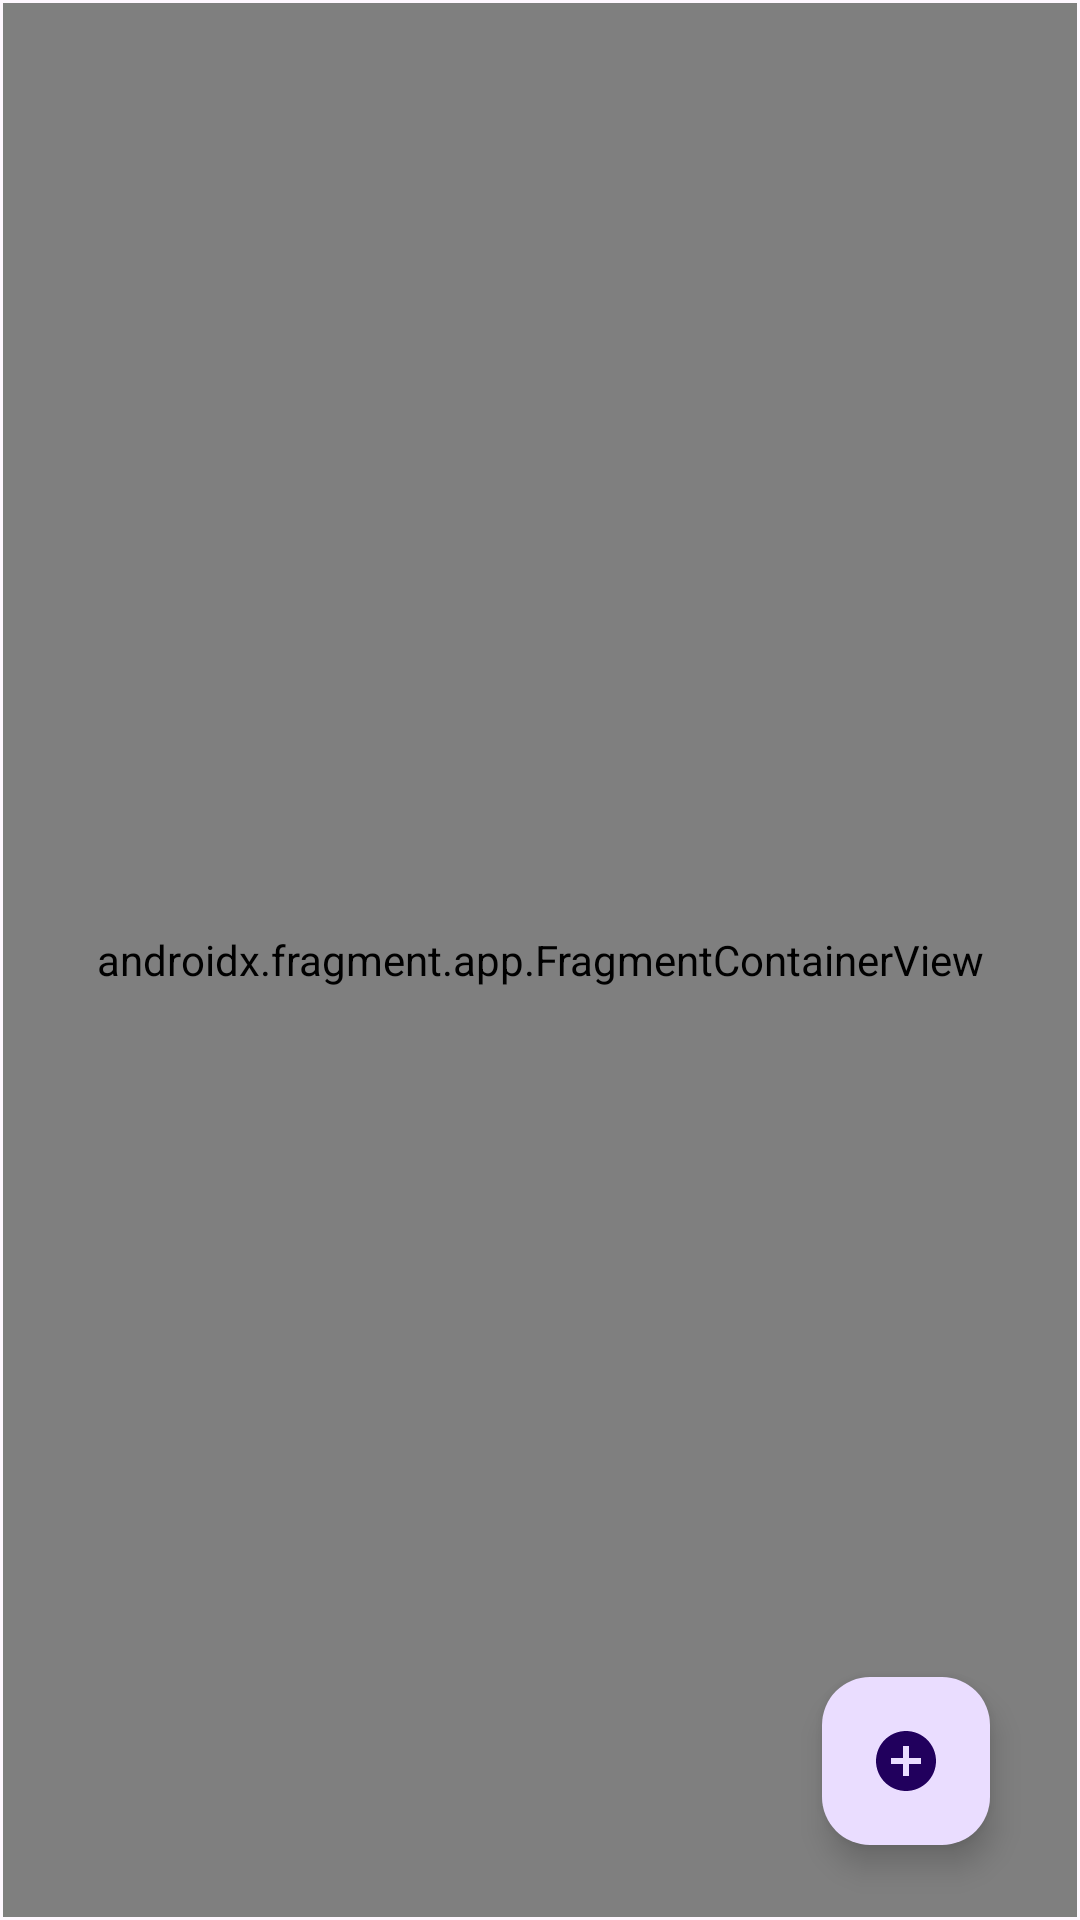

Screen size 1080x1920. Icon name, then its box in pixels as (x1, y1, x2, y2):
Add…: (822, 1677, 990, 1845)
